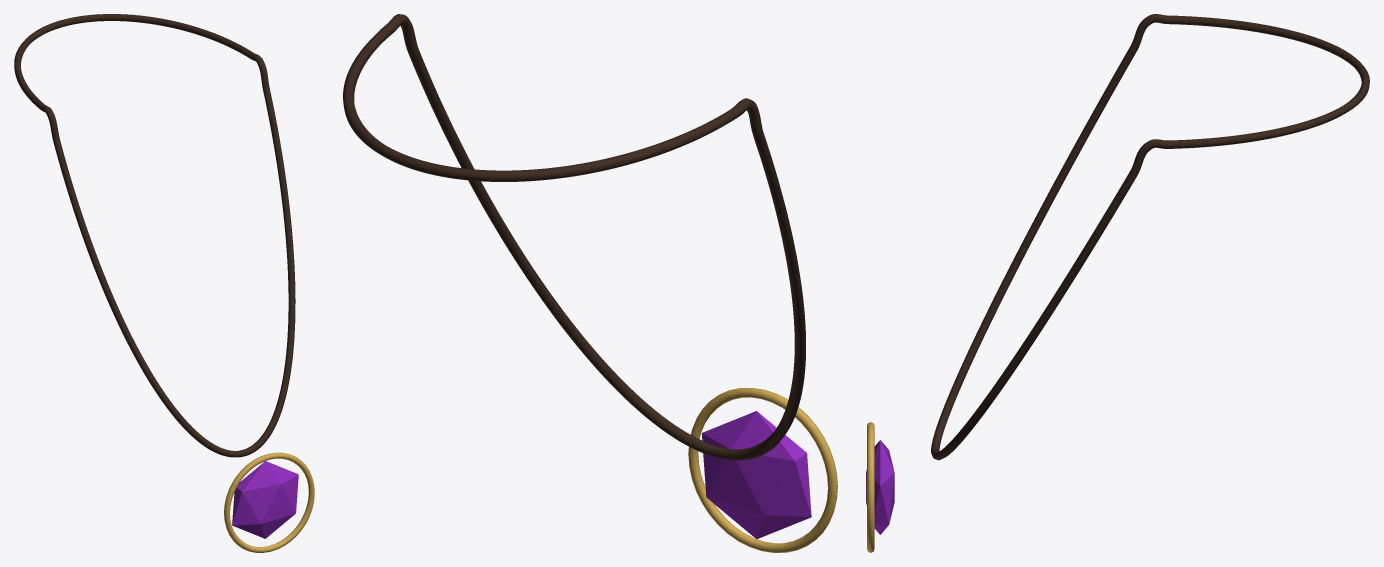
The model's file is accessory-fantasy-neck.glb.
3 views of the same model, side by side, from view 1: azimuth 30°, elevation 25°; view 2: azimuth 150°, elevation 25°; view 3: azimuth 270°, elevation 25° (orthographic). The views are drawn at different scales.
Visible parts, largest first — view 1: Necklace cord; view 2: Necklace cord; view 3: Necklace cord.
Part boxes in pixels (x1,y1,x2,y2): Necklace cord: (14, 14, 314, 552); Necklace cord: (343, 14, 837, 552); Necklace cord: (866, 14, 1369, 552).
Size of the model in its own units: 0.1275 by 0.2169 by 0.2107.
